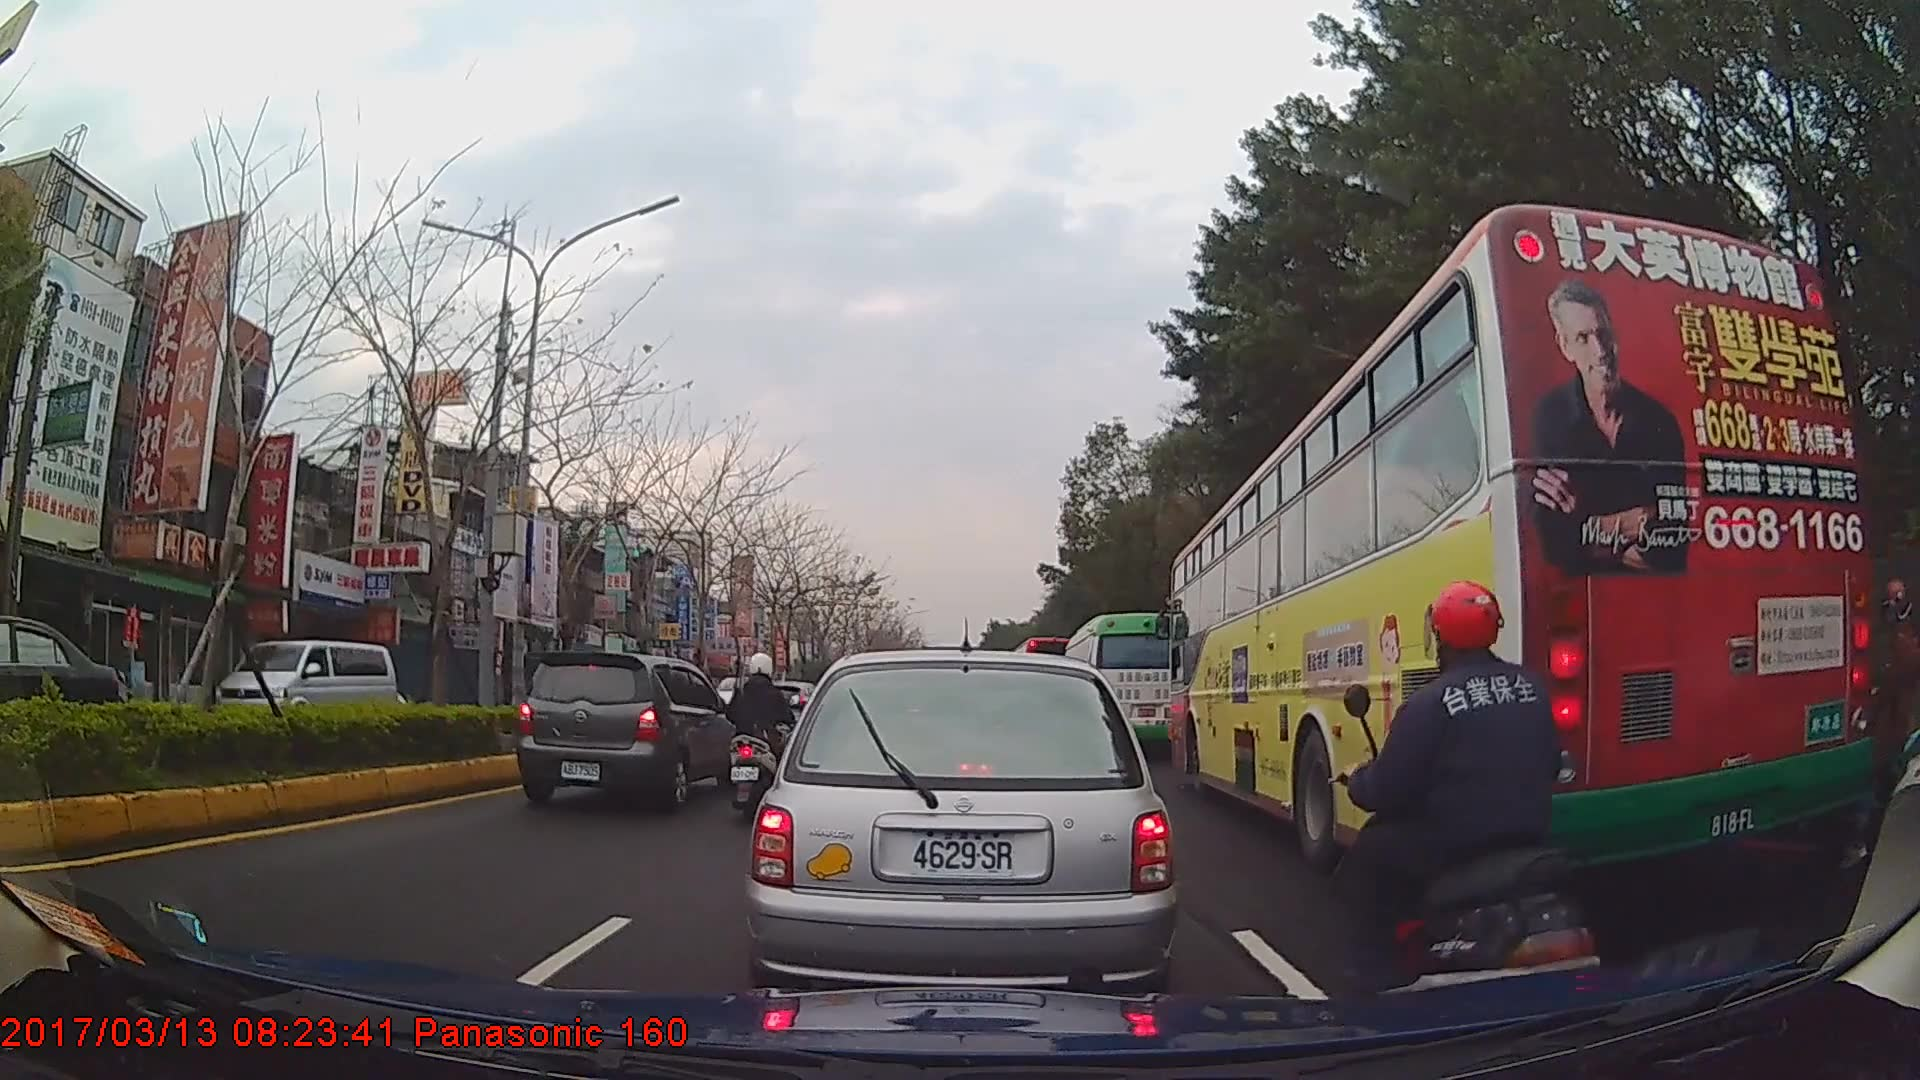rider: (1333, 575, 1599, 1041), (1836, 579, 1920, 872), (723, 652, 796, 801)
vehicle: (1169, 200, 1871, 886), (747, 651, 1177, 1010), (515, 651, 735, 806), (214, 641, 397, 744), (1060, 611, 1183, 757), (0, 613, 116, 765)
